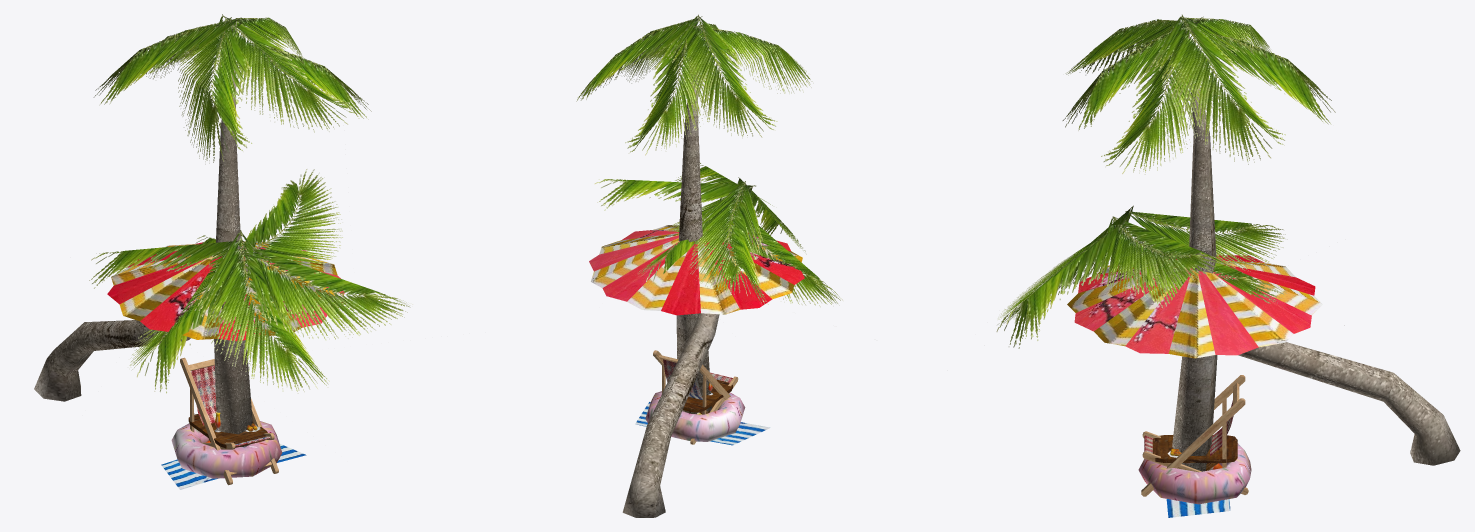
File: beachPack.glb
The picture shows the model from 3 angles, left to right: view 1: azimuth 30°, elevation 25°; view 2: azimuth 150°, elevation 25°; view 3: azimuth 270°, elevation 25°; orthographic projection. The views are drawn at different scales.
Parts seen in each view (by area): view 1: palm2, palm1, umbrella2, umbrella1, ring, lounger1, lounger2, table, towel; view 2: palm1, palm2, umbrella1, umbrella2, ring, lounger2, lounger1, towel, table; view 3: palm1, palm2, umbrella2, umbrella1, ring, lounger1, table, towel.
Part boxes in pixels (x1,y1,x2,y2): palm2: [34, 169, 412, 401]; palm1: [93, 14, 371, 446]; umbrella2: [111, 241, 346, 339]; umbrella1: [107, 242, 344, 341]; ring: [171, 421, 282, 478]; lounger1: [180, 357, 278, 484]; lounger2: [180, 358, 278, 484]; table: [188, 412, 267, 448]; towel: [161, 444, 306, 489]; palm1: [576, 14, 813, 414]; palm2: [594, 163, 842, 517]; umbrella1: [589, 230, 804, 315]; umbrella2: [591, 225, 802, 314]; ring: [645, 391, 745, 441]; lounger2: [653, 351, 737, 444]; lounger1: [653, 350, 738, 444]; towel: [635, 402, 770, 445]; table: [683, 379, 732, 414]; palm1: [1062, 14, 1335, 471]; palm2: [996, 205, 1460, 465]; umbrella2: [1067, 254, 1322, 358]; umbrella1: [1074, 255, 1315, 355]; ring: [1138, 443, 1251, 504]; lounger1: [1141, 375, 1248, 496]; table: [1152, 435, 1237, 470]; towel: [1166, 499, 1230, 517].
Size of the model in its own units: 5.08 by 5.71 by 5.84.
15 materials, 14 textured.
